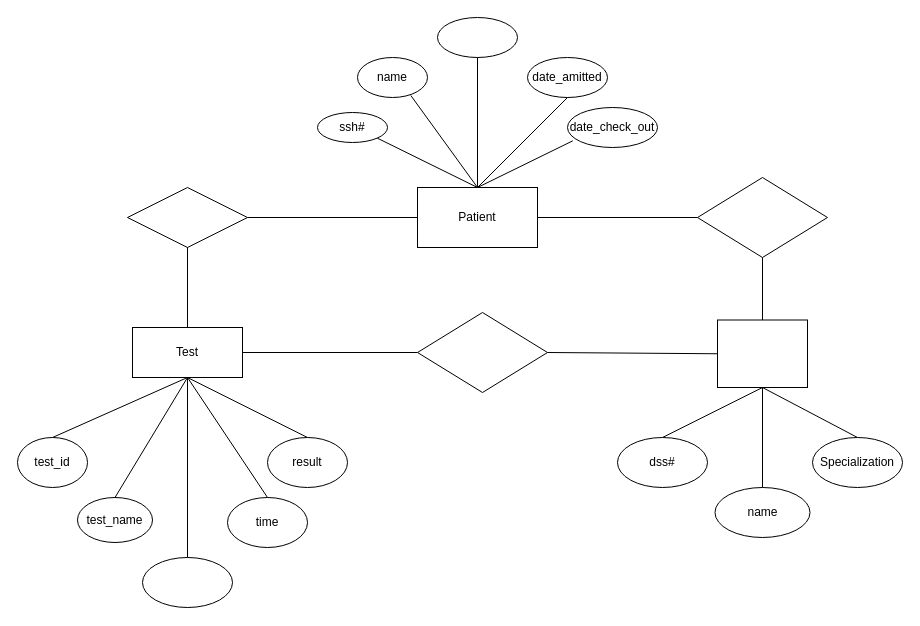
This 920x626 diagram has some shape labels left out. The shapes that lost their labels are listed below. From the top down, each one's centre as x and y in pixels, then its label:
At (477,37): "insurance".
At (187,217): "Test_log".
At (762,217): "Dr_patient".
At (482,352): "Perfomred_by".
At (762,353): "Doctors".
At (187,582): "date".
